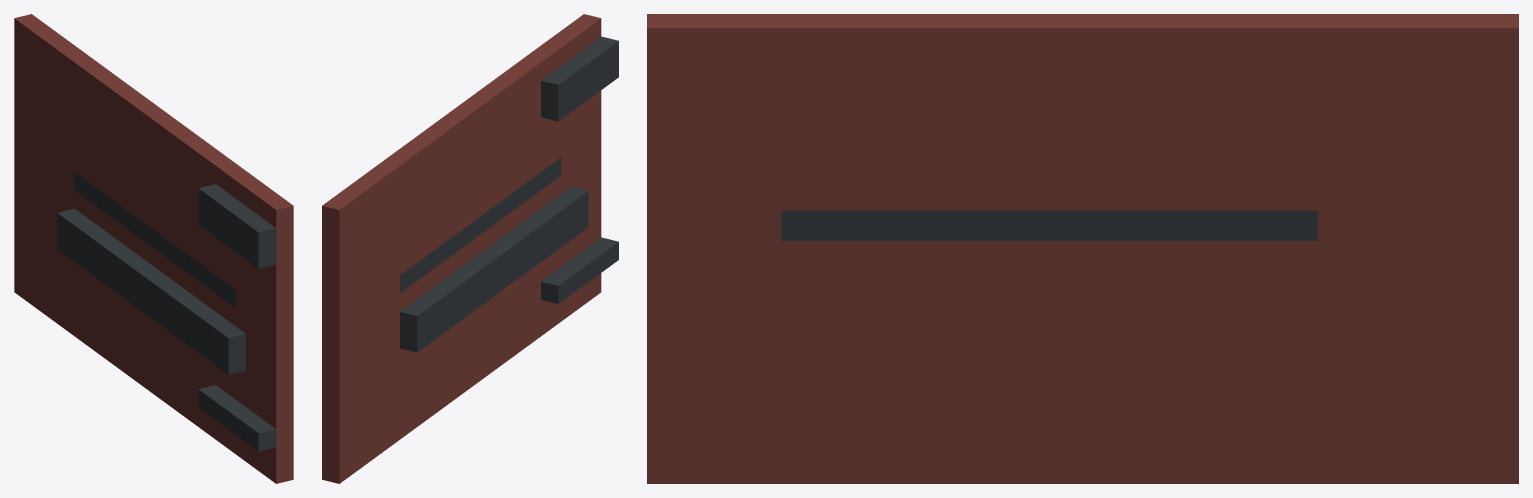
File: horse_box_top_door.glb
3 views of the same model, side by side, from view 1: azimuth 30°, elevation 25°; view 2: azimuth 150°, elevation 25°; view 3: azimuth 270°, elevation 25° (orthographic). The views are drawn at different scales.
Visible parts, largest first — view 1: body:compound; view 2: body:compound; view 3: body:compound.
Boxes of the visible parts, x1,y1,x2,y2 form: body:compound: (14,14,293,483); body:compound: (322,14,618,483); body:compound: (647,14,1518,483).
Bounding box in the file's own units: 0.0625 × 0.4688 × 0.8125.
